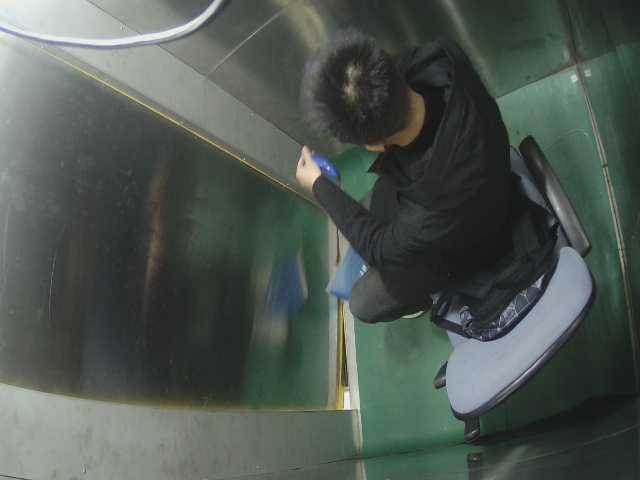chair: (406, 136, 586, 445)
person: (259, 21, 518, 282)
